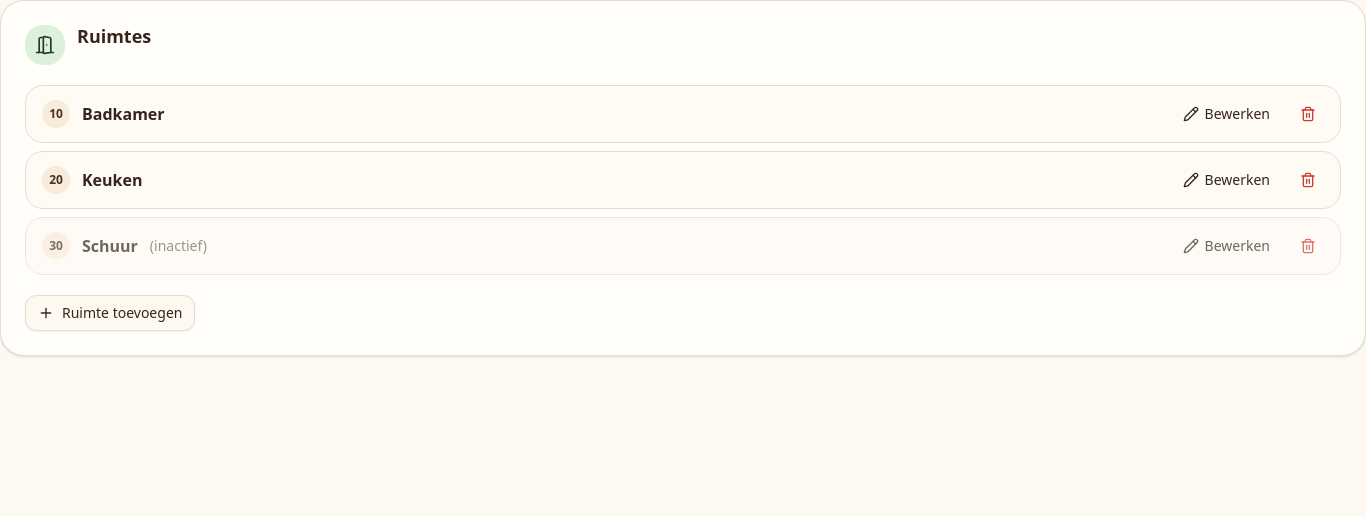
Scenario: RoomsSection › renames, reorders and deactivates a room
The width and height of the screenshot is (1366, 516).
Click the button with aria-label "Bewerk Keuken".
click(1226, 180)  # box left=1173, top=164, right=1280, bottom=196
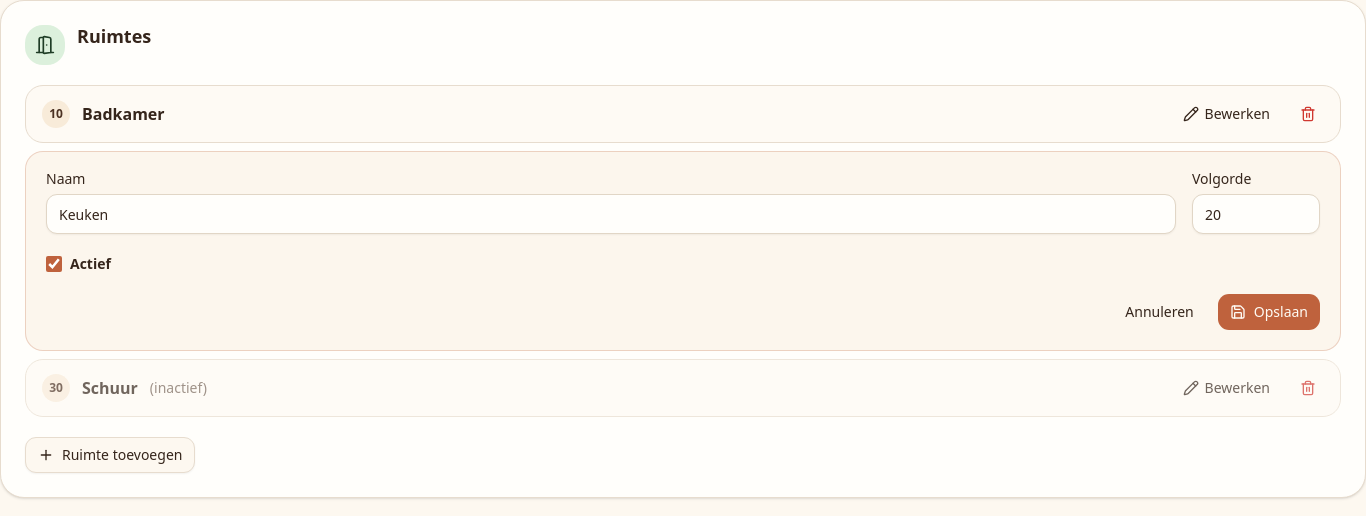
Replace the text in the field labelled "Naam" with "Keuken & bijkeuken" at (611, 214), box left=46, top=194, right=1176, bottom=234
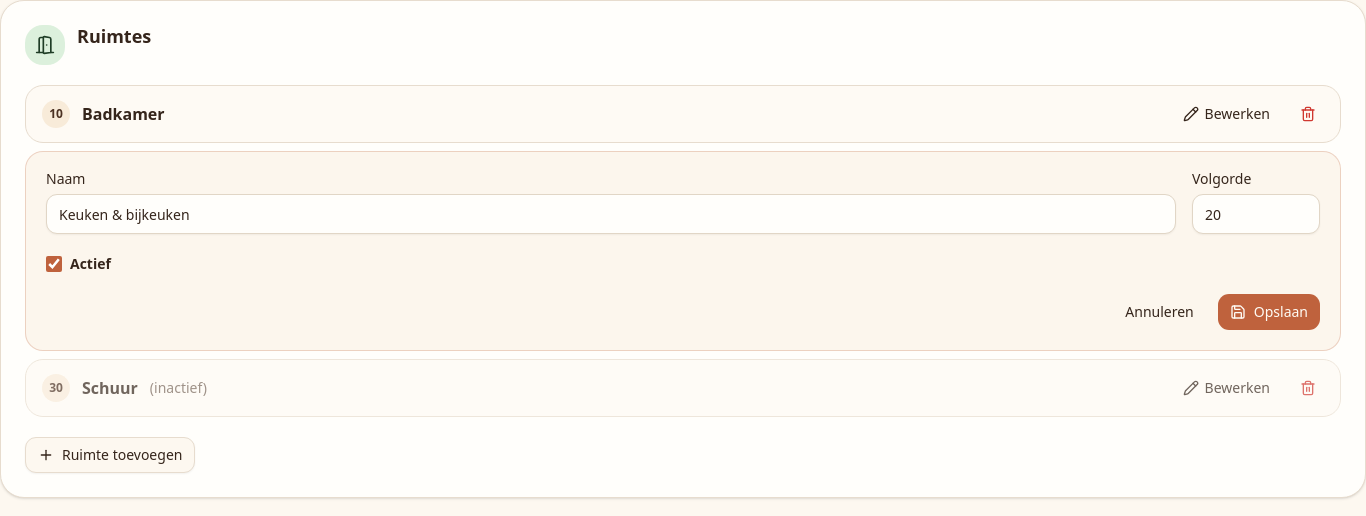
Replace the text in the number field labelled "Volgorde" with "5" at (1256, 214), box left=1192, top=194, right=1320, bottom=234
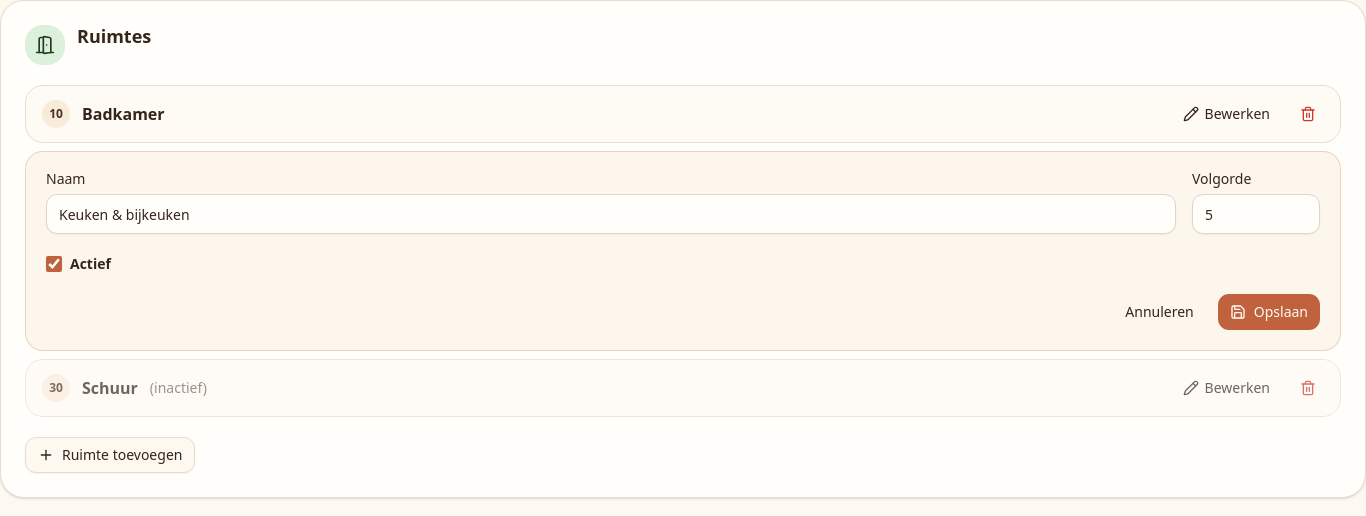
Click the checkbox labelled "Actief".
click(54, 264)  # box left=46, top=256, right=62, bottom=272
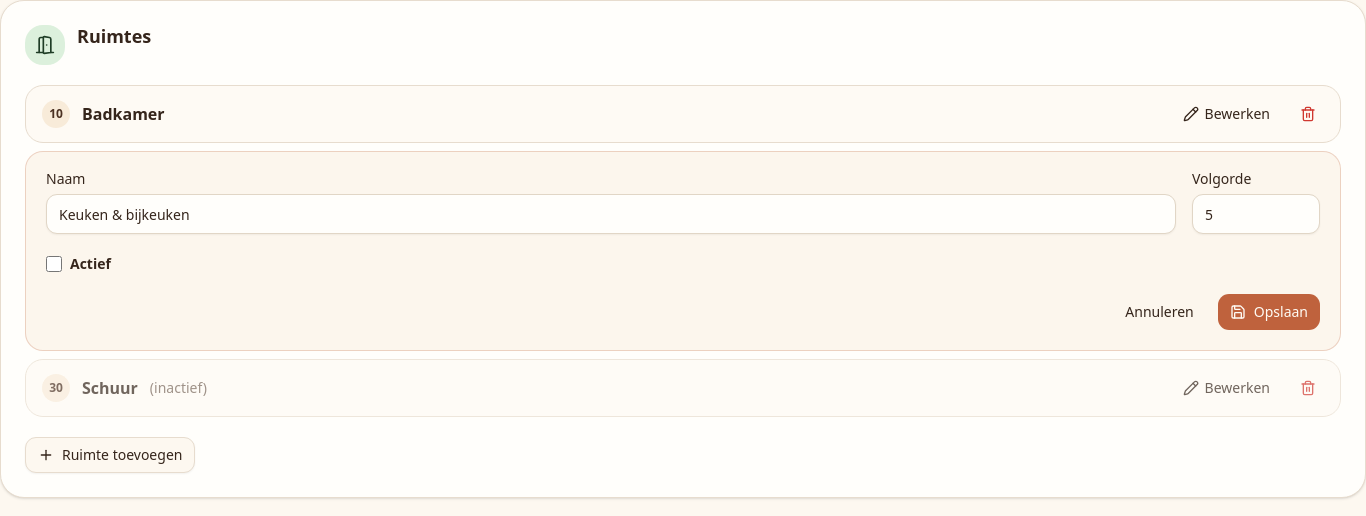
Click the button "Opslaan".
click(1269, 312)  # box left=1218, top=294, right=1320, bottom=330
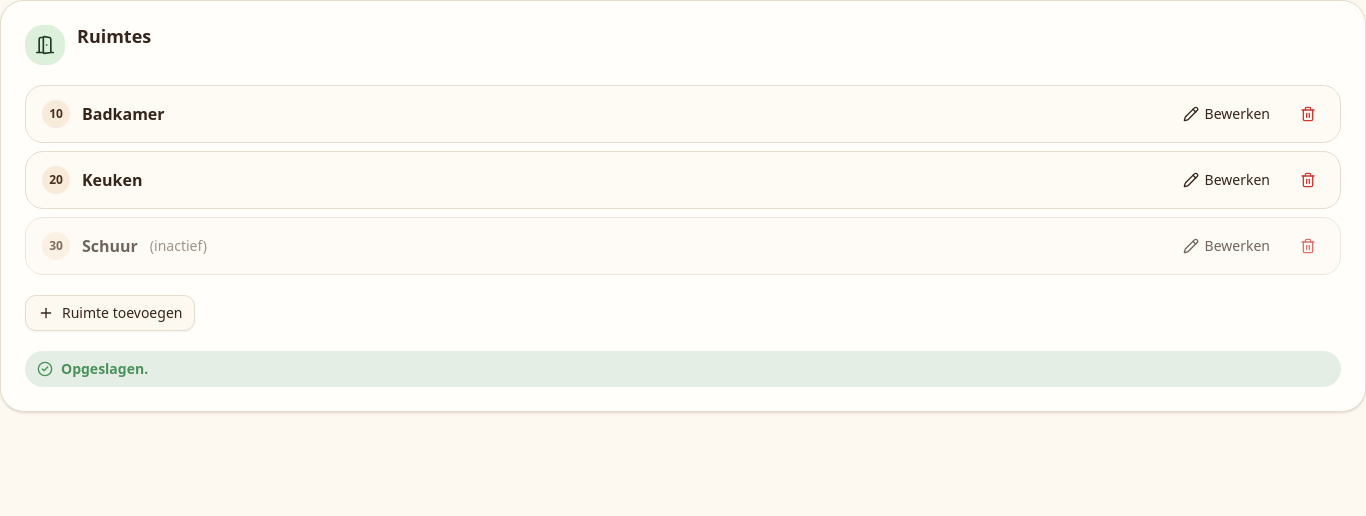
Result: the message reads "Opgeslagen." at left=61, top=359, right=148, bottom=378
